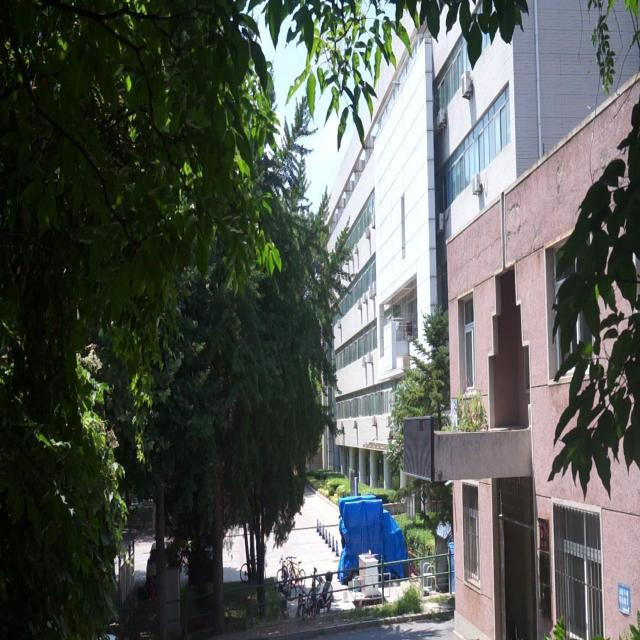UAV: (392, 81, 402, 87)
